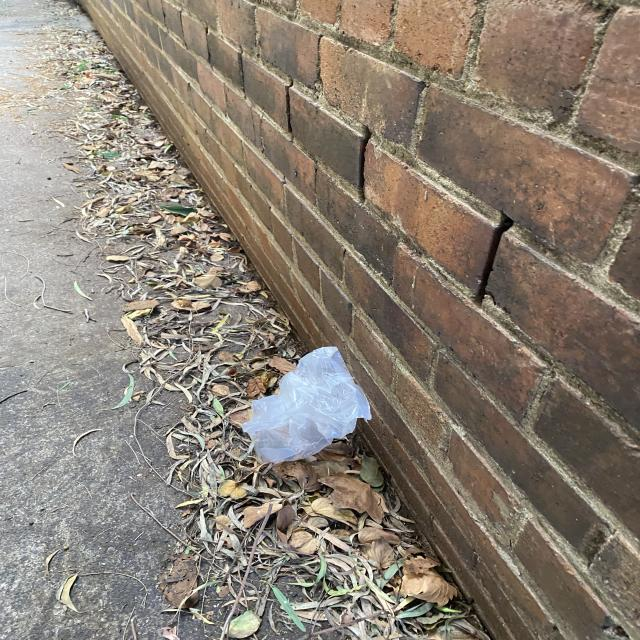cloth: (242, 344, 371, 470)
